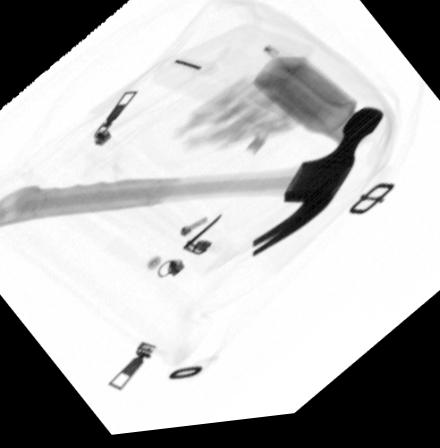Hammer: (0, 113, 384, 265)
